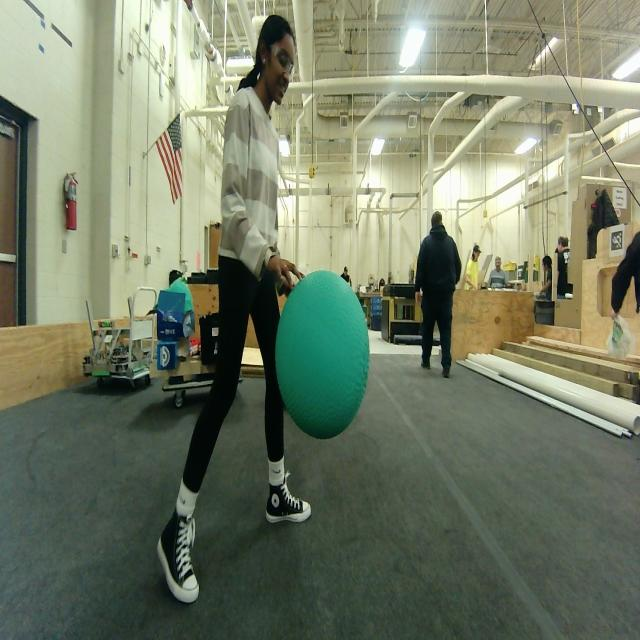algae: (276, 270, 369, 438)
